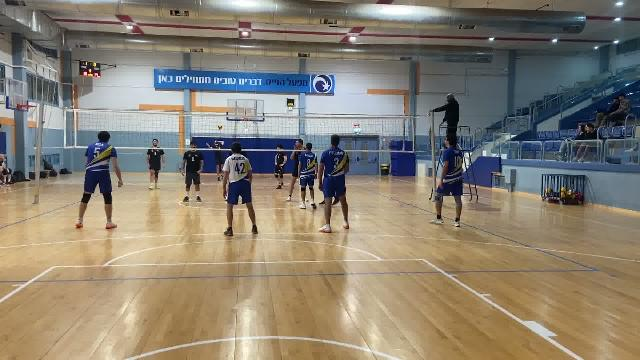ball: (216, 124, 226, 132)
